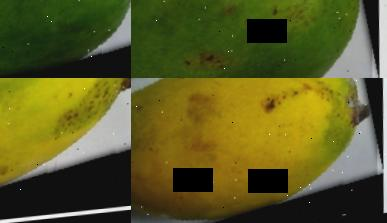PartiallyRipe: (0, 78, 131, 223)
Ripe: (131, 78, 382, 223)
Unripe: (131, 0, 377, 78), (0, 0, 131, 78)
